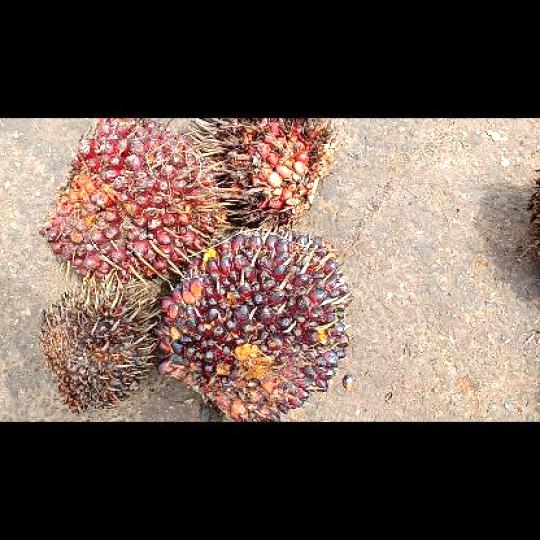kurang masak: (158, 226, 353, 420)
masak: (36, 120, 221, 286)
terlalu masak: (187, 118, 335, 232)
